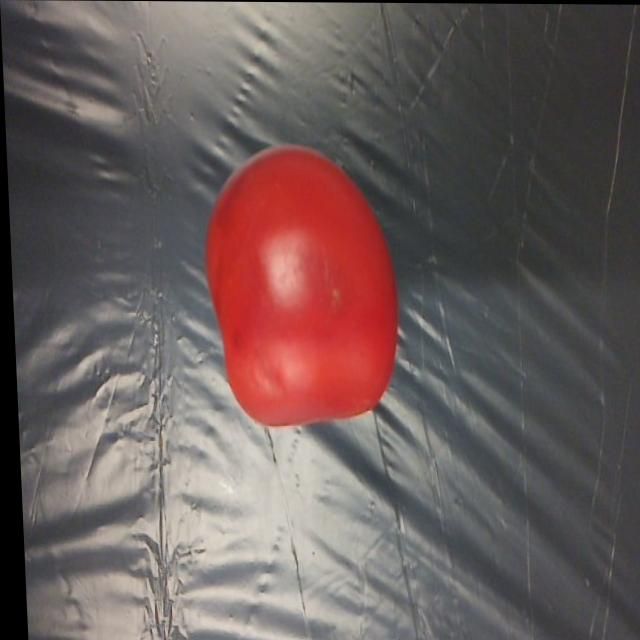sari: (192, 127, 411, 429)
